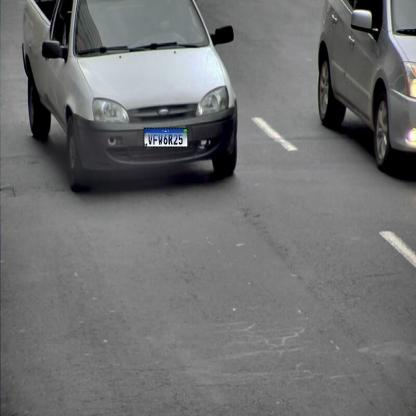PlacaM: (144, 127, 188, 148)
